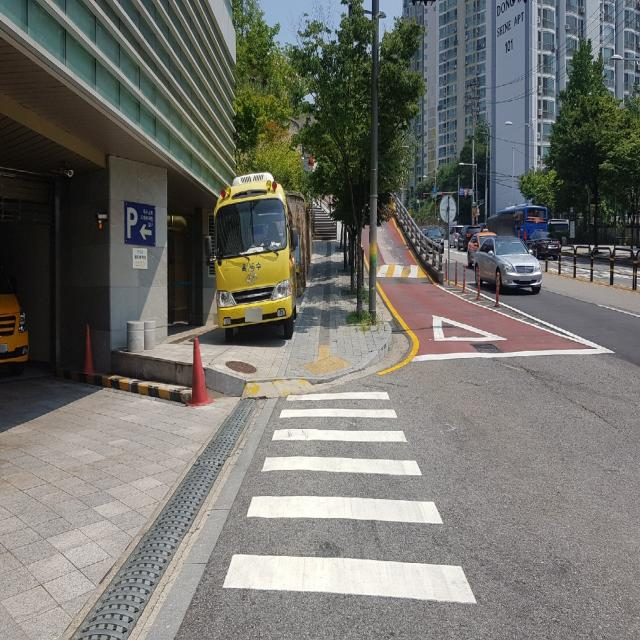횡단보도: (222, 391, 476, 603)
